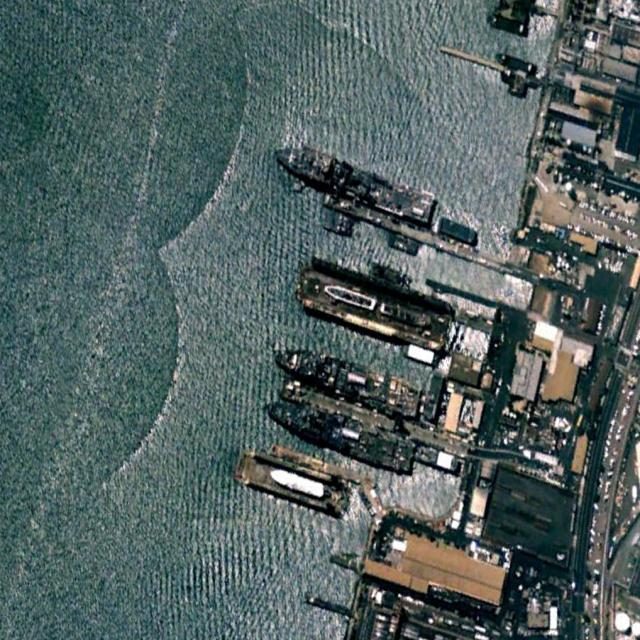Other Ship: (268, 135, 436, 230), (260, 391, 419, 478), (268, 336, 422, 422)
